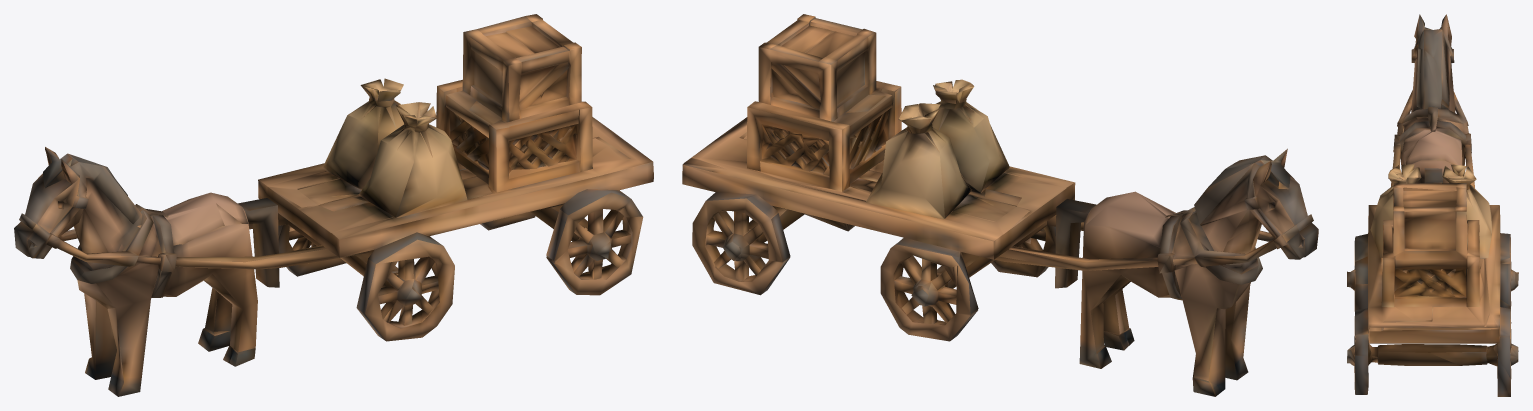
The model's file is yukarabasi.glb.
The picture shows the model from 3 angles, left to right: view 1: azimuth 30°, elevation 25°; view 2: azimuth 150°, elevation 25°; view 3: azimuth 270°, elevation 25°; orthographic projection. The views are drawn at different scales.
Visible parts, largest first — view 1: node_0; view 2: node_0; view 3: node_0.
Boxes of the visible parts, x1,y1,x2,y2 form: node_0: (14,14,653,396); node_0: (682,14,1318,396); node_0: (1347,14,1518,396).
Bounding box in the file's own units: 1.17 × 0.4605 × 0.3636.
Materials: 1 (1 with a texture image).
